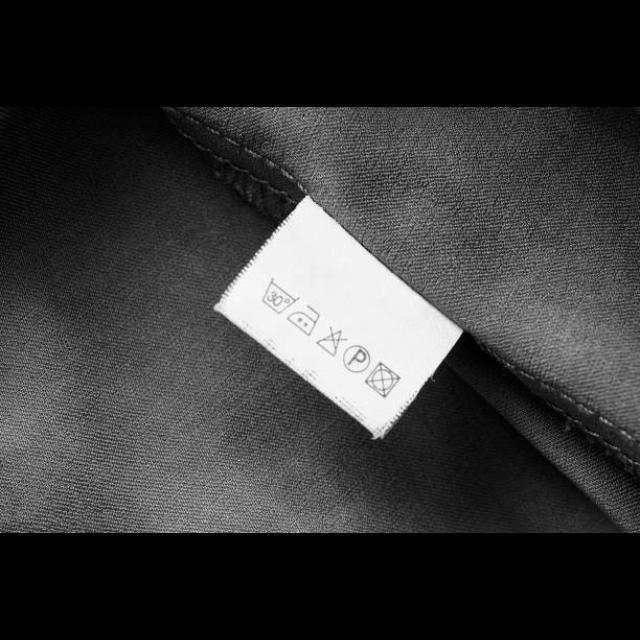30C: (258, 276, 302, 316)
DN_dry_clean: (314, 324, 348, 358)
DN_tumble_dry: (362, 360, 402, 400)
iron_medium: (285, 303, 323, 339)
normal_dry_clean_solvents: (340, 343, 372, 375)
